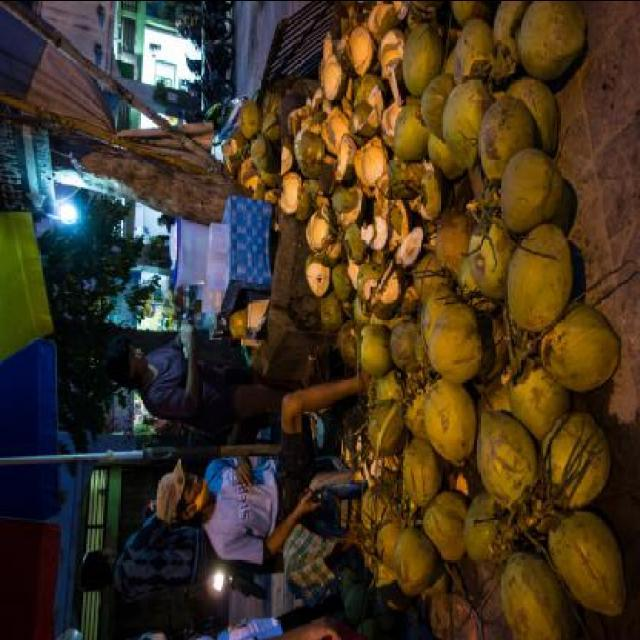Coconut: (318, 2, 629, 640), (238, 87, 282, 190), (230, 298, 248, 340)
